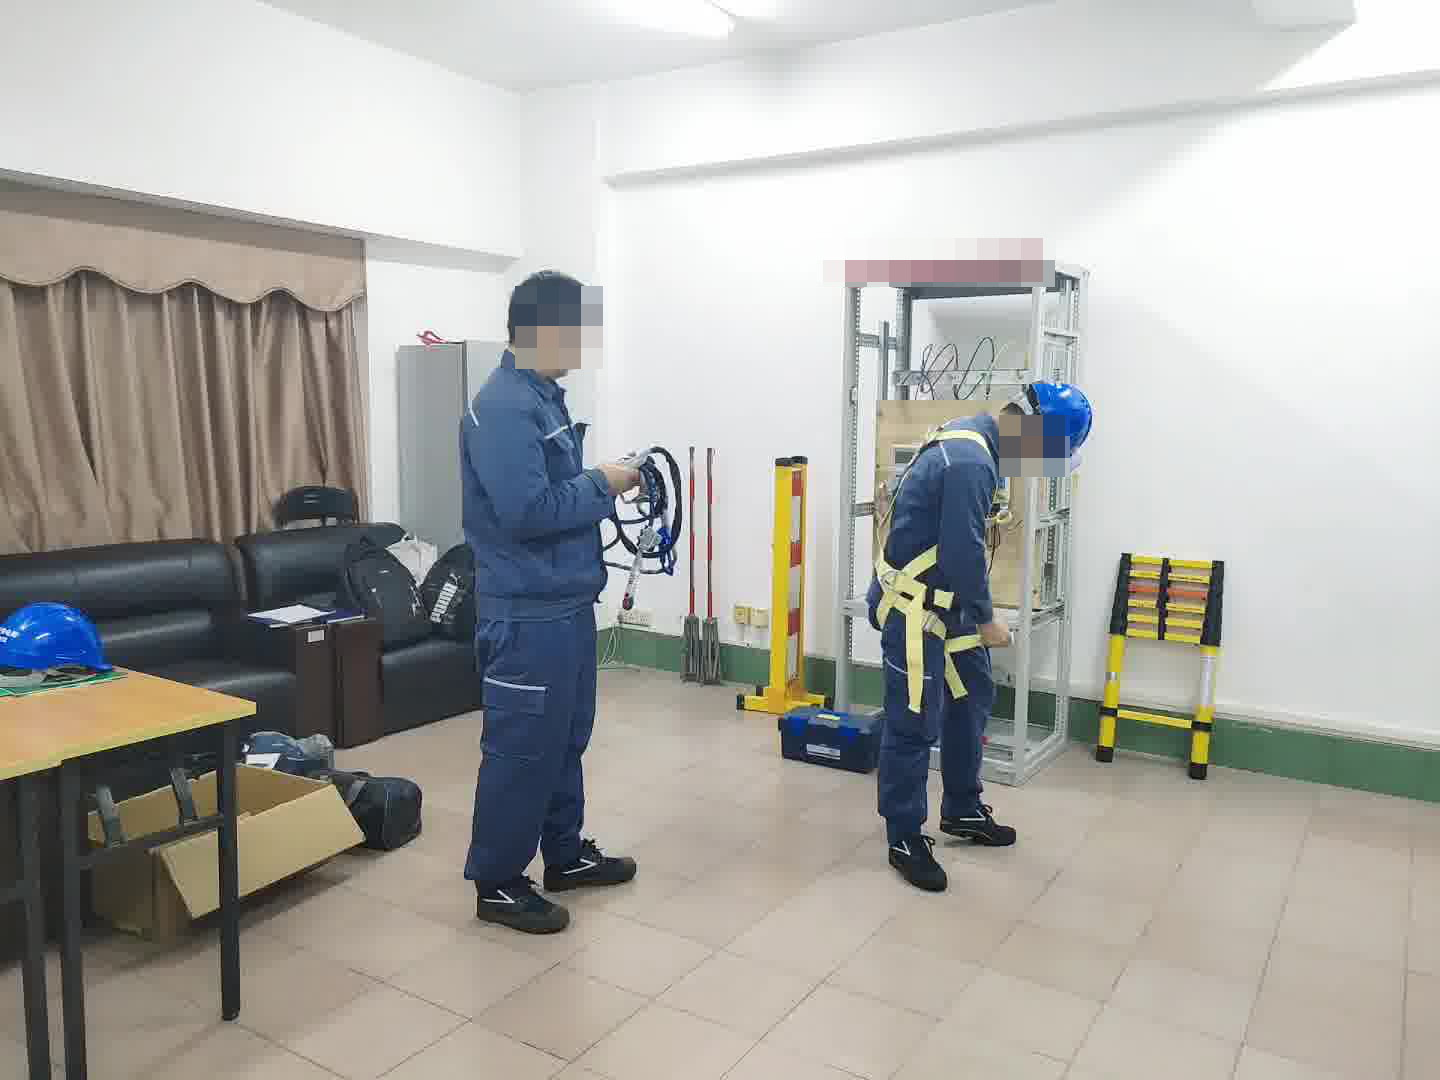downsuit: (465, 624, 600, 880), (879, 630, 993, 831)
halt: (999, 379, 1094, 477)
hand: (590, 458, 640, 504), (982, 618, 1012, 651)
inear: (993, 410, 1057, 463)
noear: (528, 317, 570, 375)
person: (453, 268, 631, 920), (870, 372, 1094, 883)
safebelt: (867, 414, 994, 713)
unhalt: (506, 270, 601, 373)
upsuit: (457, 357, 613, 604), (876, 407, 1010, 606)
